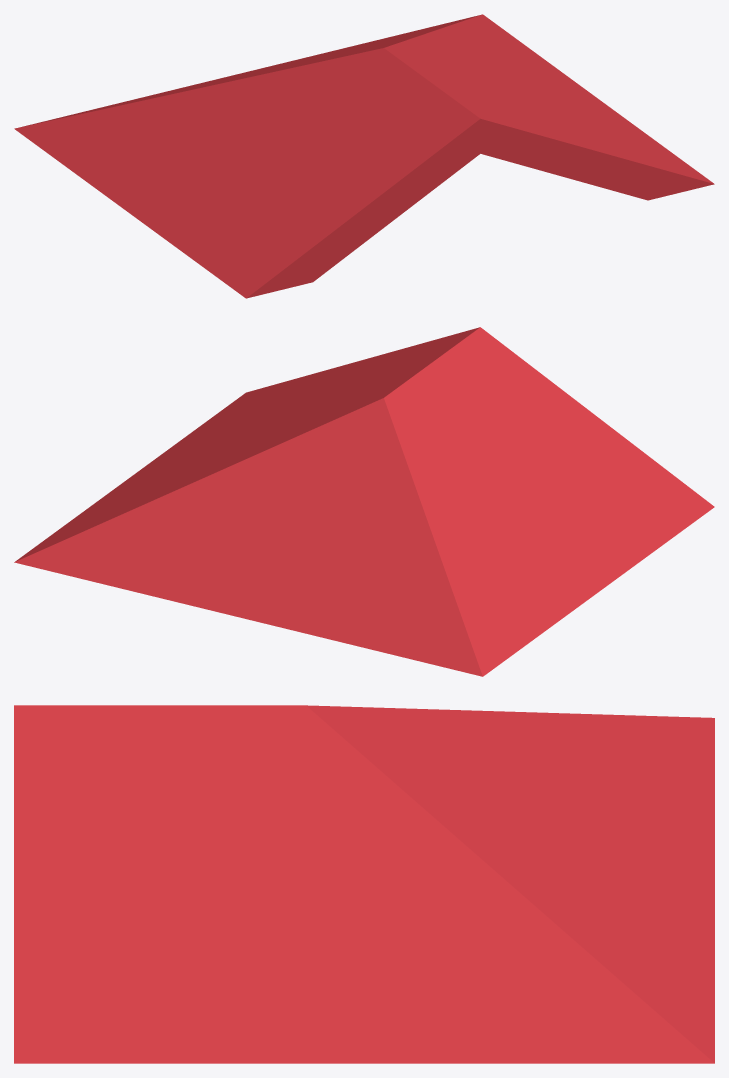
The model's file is roof_small_hip_end.glb.
3 renders of one model, top to bottom at view 1: azimuth 30°, elevation 25°; view 2: azimuth 150°, elevation 25°; view 3: azimuth 270°, elevation 25°, orthographic. The views are drawn at different scales.
Visible parts, largest first — view 1: roof_small_hip_end; view 2: roof_small_hip_end; view 3: roof_small_hip_end.
Part boxes in pixels (x1,y1,x2,y2): roof_small_hip_end: (14,14,714,298); roof_small_hip_end: (14,327,714,676); roof_small_hip_end: (14,705,714,1063).
Size of the model in its own units: 1.4 by 0.35 by 1.2.
